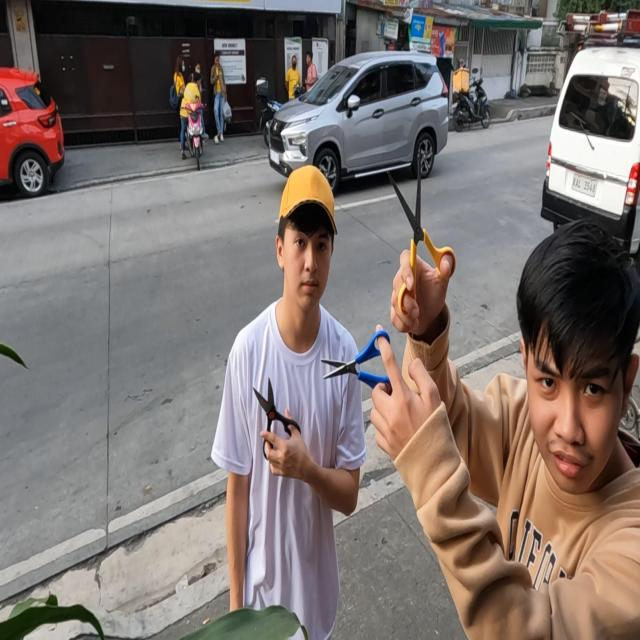scissor: (386, 147, 456, 316), (320, 330, 393, 394), (252, 376, 301, 460)
